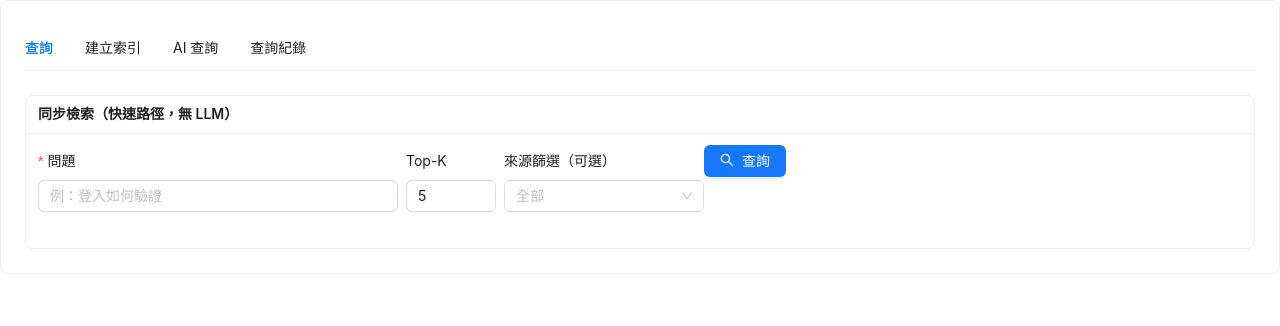
Test: RagPage › activates the 查詢紀錄 tab and loads the query logs
The image size is (1280, 326).
# 切換到「查詢紀錄」tab → LogsTab 載入 /rag/query-logs
Click the tab "查詢紀錄" at coordinates (278, 48), box [250,37,306,59]
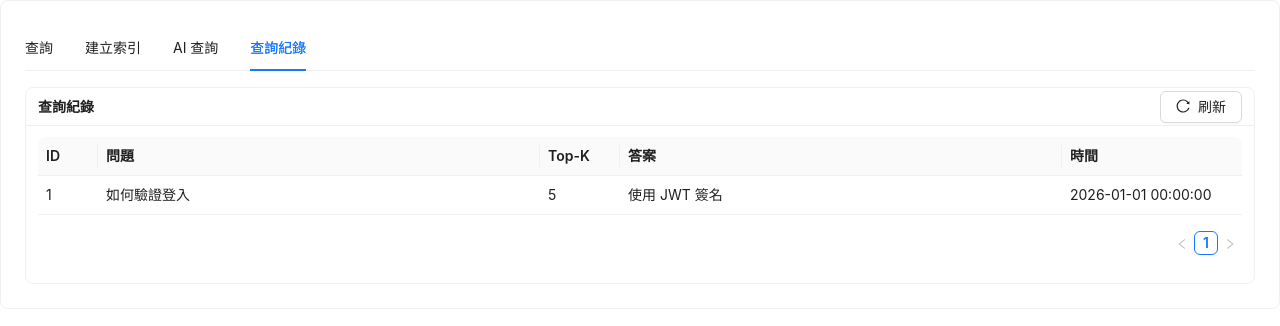
Expected: the text "如何驗證登入" is shown, [98,176,540,215]
